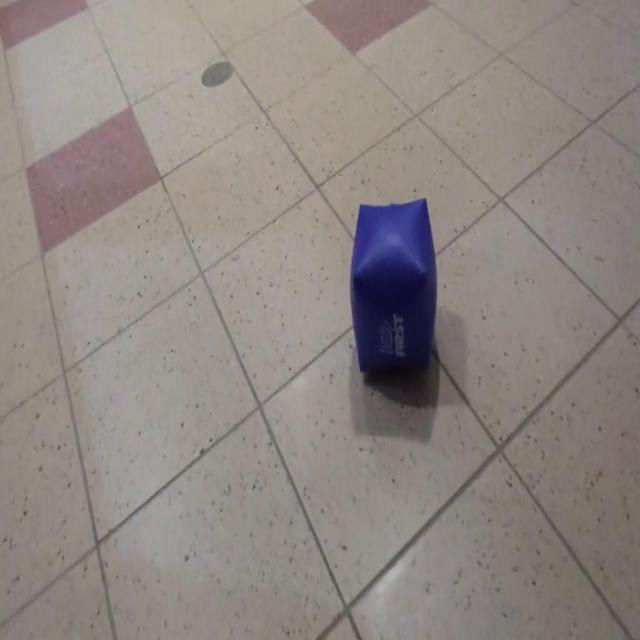frc_cube: (348, 198, 438, 378)
